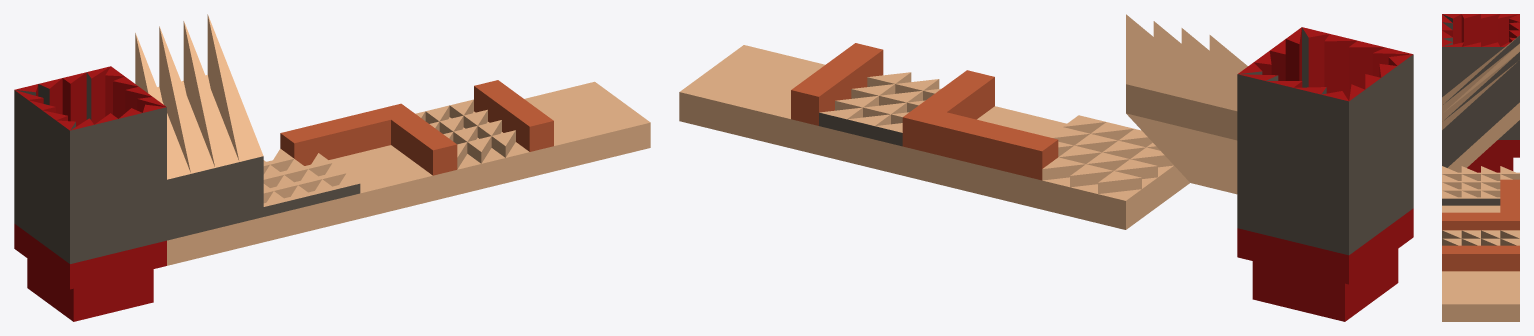
The model's file is EXTR.gltf.
3 views of the same model, side by side, from view 1: azimuth 30°, elevation 25°; view 2: azimuth 150°, elevation 25°; view 3: azimuth 270°, elevation 25° (orthographic). The views are drawn at different scales.
Visible parts, largest first — view 1: target, floor-ramp, floor-corner-borders, floor-border, floor-corner, floor; view 2: target, floor-ramp, floor-corner, floor-border, floor-corner-borders, floor; view 3: floor-ramp, target, floor, floor-border, floor-corner, floor-corner-borders.
Boxes of the visible parts, box(x1,y1,x2,y2) form: target: box(14, 66, 166, 321); floor-ramp: box(135, 14, 263, 265); floor-corner-borders: box(305, 103, 457, 218); floor-border: box(415, 80, 553, 194); floor-corner: box(263, 127, 360, 241); floor: box(524, 81, 650, 171); target: box(1237, 27, 1413, 321); floor-ramp: box(1126, 14, 1247, 194); floor-corner: box(1014, 115, 1189, 229); floor-border: box(791, 43, 941, 175); floor-corner-borders: box(902, 70, 1066, 202); floor: box(679, 45, 825, 148); floor-ramp: box(1442, 35, 1519, 172); target: box(1442, 14, 1519, 172); floor: box(1442, 271, 1519, 321); floor-border: box(1442, 230, 1519, 271); floor-corner: box(1442, 166, 1519, 205); floor-corner-borders: box(1442, 188, 1519, 230).
Size of what is drawn, in the model's own units: 24 by 8.9 by 4.
1 material, 1 textured.
